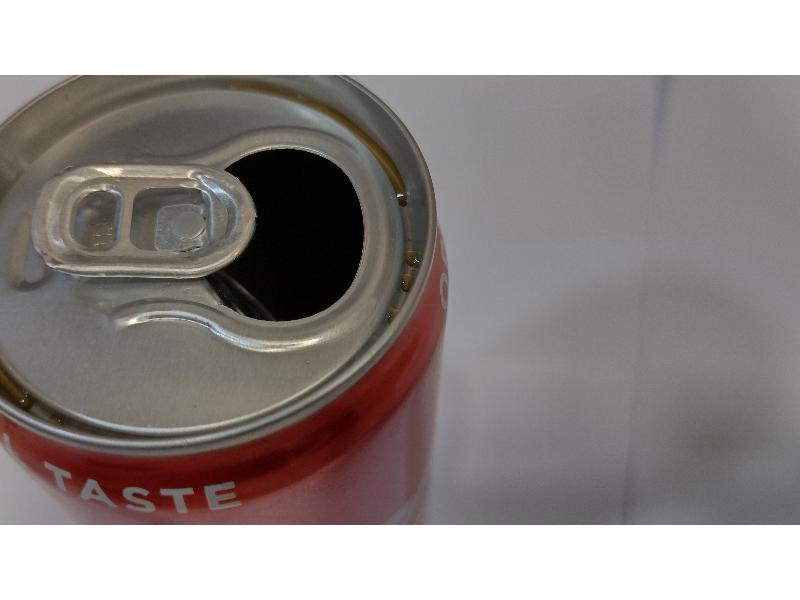can: (1, 75, 458, 523)
